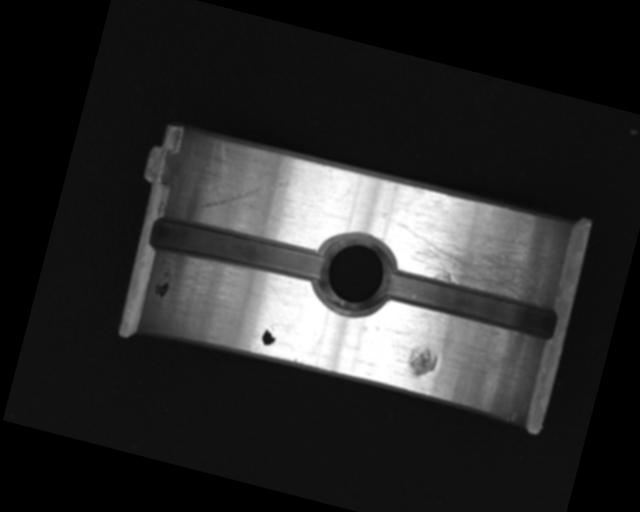blot: (151, 266, 174, 300), (259, 322, 280, 349)
bruise: (403, 342, 442, 381)
gap: (146, 208, 331, 293), (381, 265, 559, 343)
hole: (308, 226, 402, 322)
nick: (198, 160, 292, 230)
scratch: (387, 199, 561, 307)
